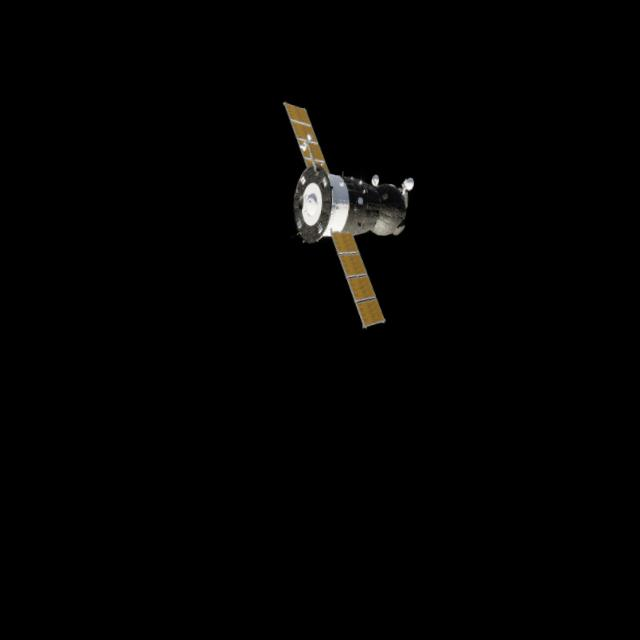Satellites revolving around earth: (260, 98, 422, 334)
